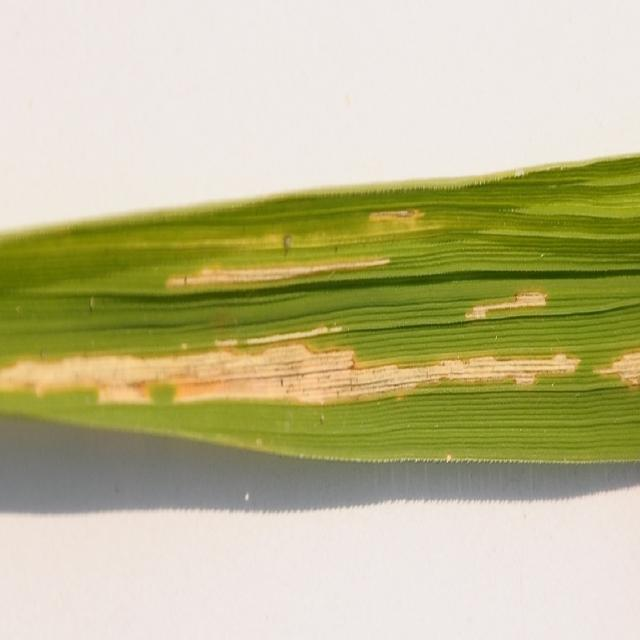Unhealthy: (0, 323, 581, 410), (167, 258, 390, 286), (465, 292, 547, 321), (593, 351, 640, 387), (370, 209, 425, 224)
